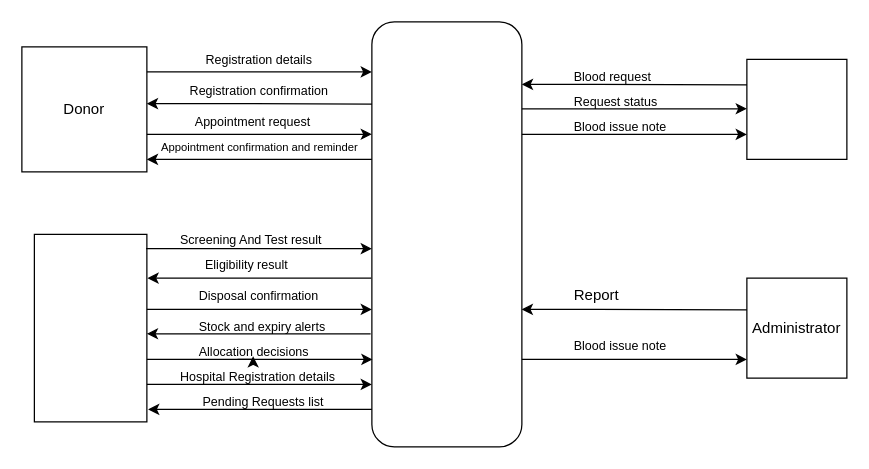
The diagram is 869 pixels wide and 469 high, and some of its shapes have lost their labels. Each missing label, with the centre of its shape:
"Blood Bank Staff" belongs at (90,327).
"Hospital" belongs at (796,108).
